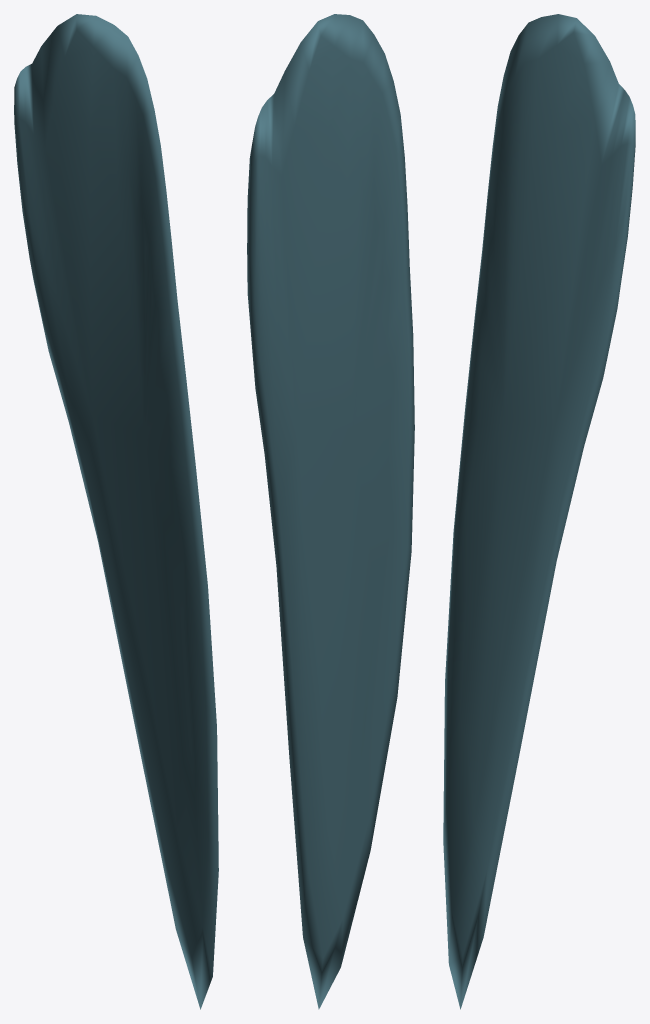
Rendered from Pectineus_medial_surface_femur_right.glb.
3 renders of one model, left to right at view 1: azimuth 90°, elevation 25°; view 2: azimuth 150°, elevation 25°; view 3: azimuth 270°, elevation 25°, orthographic. The views are drawn at different scales.
Visible parts, largest first — view 1: Pectineus_muscle_on_medial_surface_od_femur.r_Generated_Mesh; view 2: Pectineus_muscle_on_medial_surface_od_femur.r_Generated_Mesh; view 3: Pectineus_muscle_on_medial_surface_od_femur.r_Generated_Mesh.
Boxes of the visible parts, <box> form: Pectineus_muscle_on_medial_surface_od_femur.r_Generated_Mesh: <box>14,14,218,1009</box>; Pectineus_muscle_on_medial_surface_od_femur.r_Generated_Mesh: <box>247,14,414,1009</box>; Pectineus_muscle_on_medial_surface_od_femur.r_Generated_Mesh: <box>443,14,635,1009</box>.
Size of the model in its own units: 0.00368 by 0.0346 by 0.00626.
